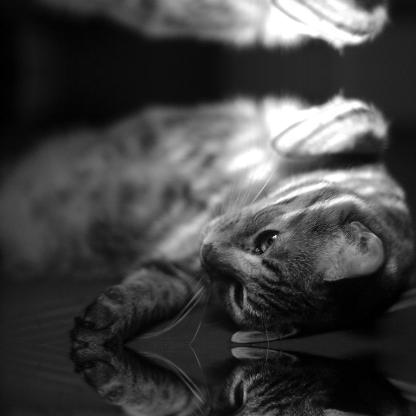Cat: (0, 89, 414, 343), (0, 345, 414, 415), (0, 0, 414, 54)
